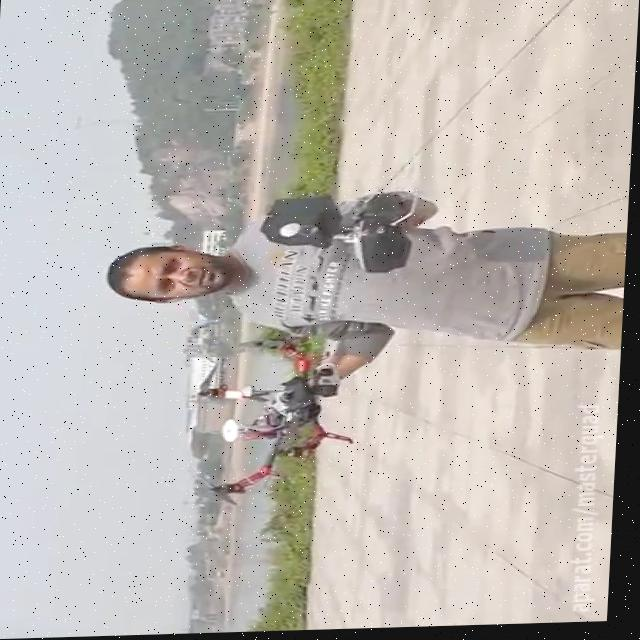drone: (182, 334, 363, 513)
